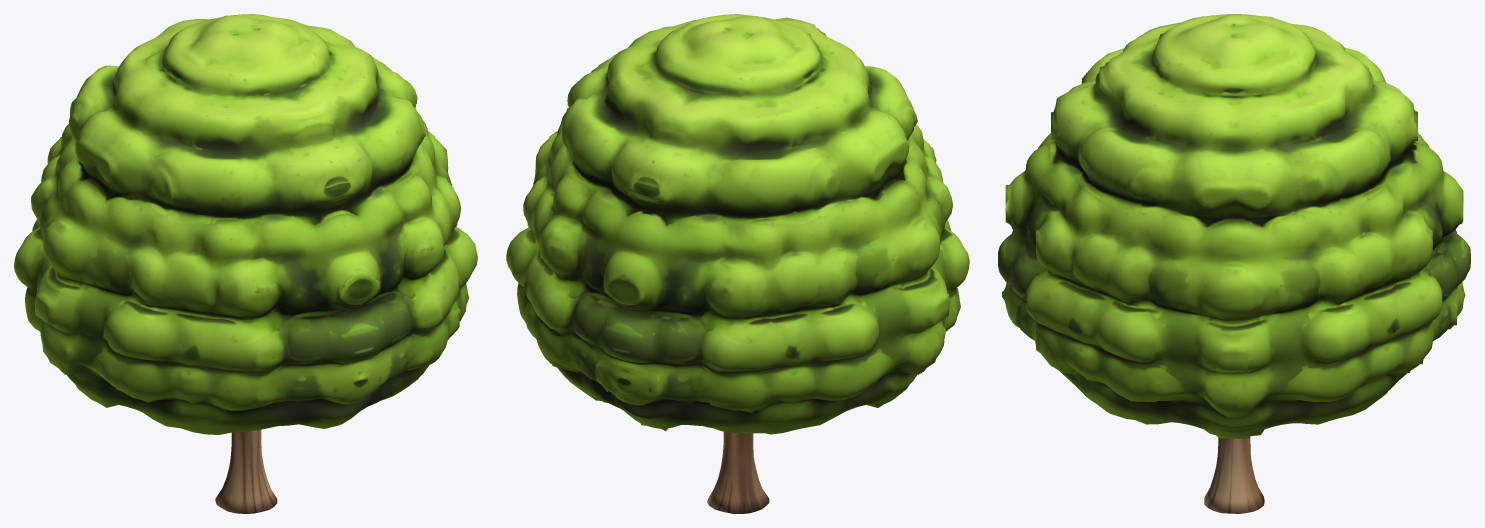
The model's file is tree1.fbx.
The picture shows the model from 3 angles, left to right: view 1: azimuth 30°, elevation 25°; view 2: azimuth 150°, elevation 25°; view 3: azimuth 270°, elevation 25°; orthographic projection.
Visible parts, largest first — view 1: model; view 2: model; view 3: model.
Part boxes in pixels (left/top/right/bottom): model: left=14, top=14, right=477, bottom=513; model: left=506, top=14, right=969, bottom=513; model: left=998, top=14, right=1470, bottom=513.
Size of the model in its own units: 172 by 190 by 172.
1 material, 1 textured.
